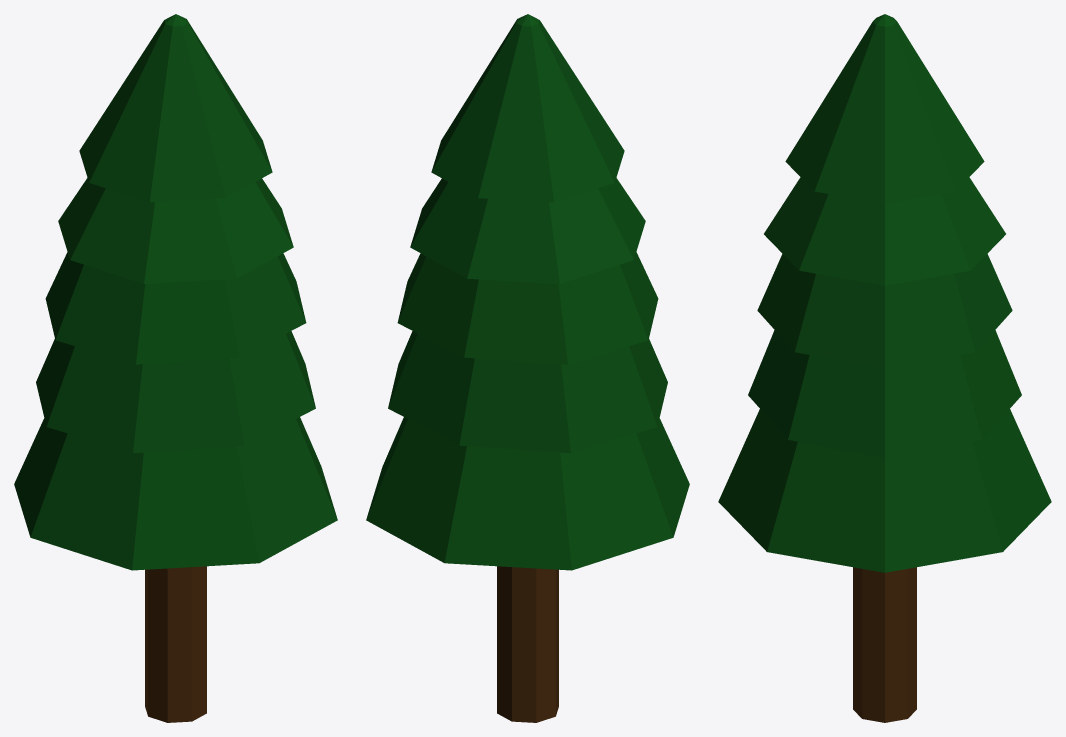
File: tree3.fbx
3 renders of one model, left to right at view 1: azimuth 30°, elevation 25°; view 2: azimuth 150°, elevation 25°; view 3: azimuth 270°, elevation 25°, orthographic.
Parts seen in each view (by area): view 1: Cone.001, Cylinder; view 2: Cone.001, Cylinder; view 3: Cone.001, Cylinder.
Boxes of the visible parts, left/top/right/bottom form: Cone.001: left=14, top=14, right=337, bottom=570; Cylinder: left=145, top=566, right=206, bottom=722; Cone.001: left=366, top=14, right=689, bottom=570; Cylinder: left=497, top=566, right=558, bottom=722; Cone.001: left=718, top=14, right=1051, bottom=572; Cylinder: left=853, top=567, right=916, bottom=722.
Bounding box in the file's own units: 1045 × 2386 × 1037.
